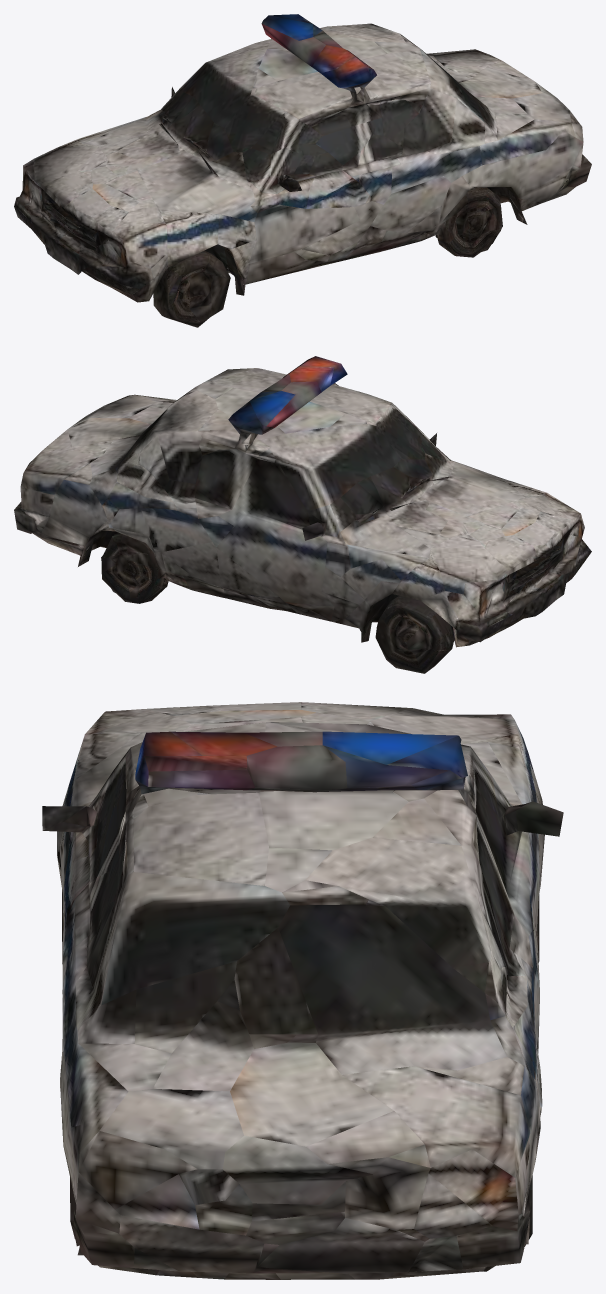
Rendered from patrol1.glb.
The picture shows the model from 3 angles, top to bottom: view 1: azimuth 30°, elevation 25°; view 2: azimuth 150°, elevation 25°; view 3: azimuth 270°, elevation 25°; orthographic projection. The views are drawn at different scales.
Size of the model in its own units: 139 by 54.39 by 64.09.
Materials: 1 (1 with a texture image).
